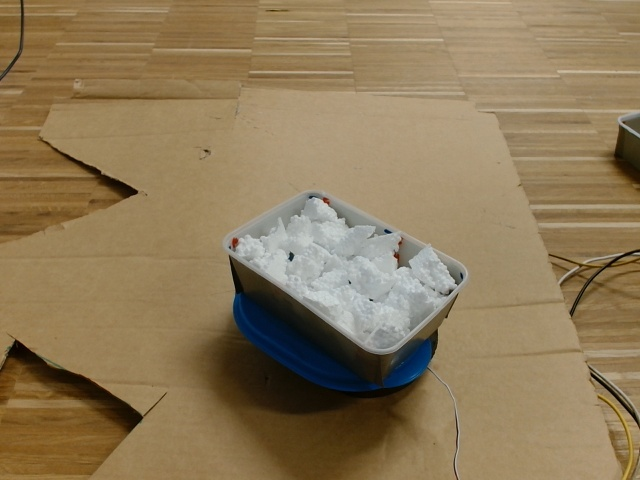Small_threequarter: (224, 189, 470, 359)
